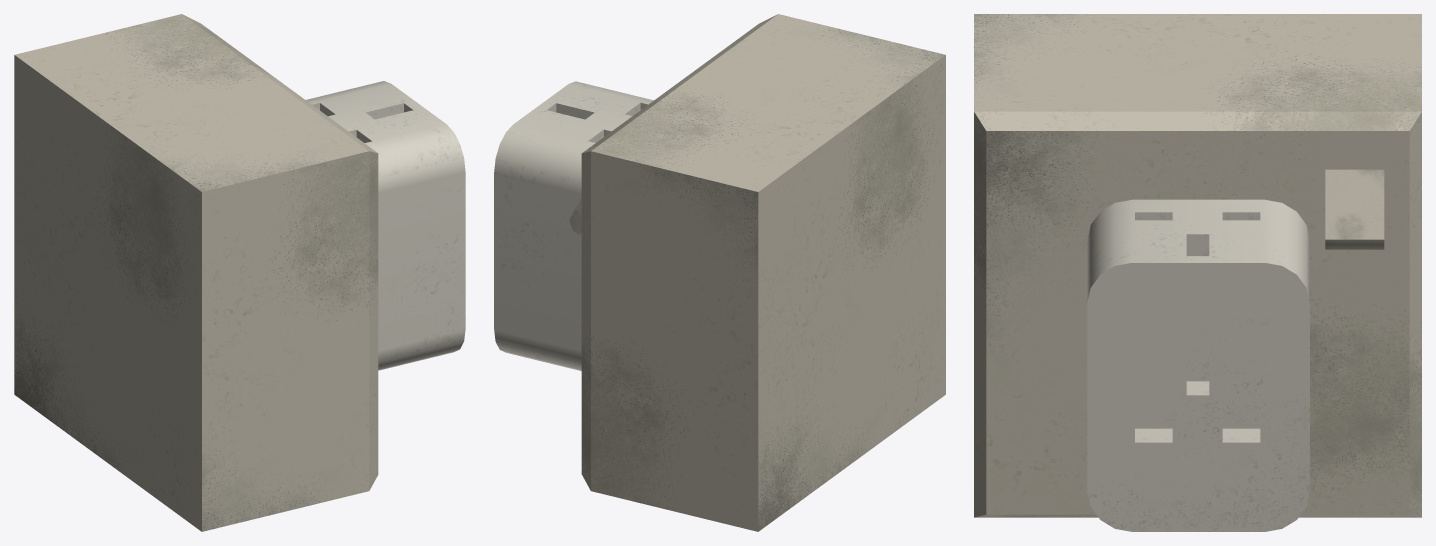
File: switch3.fbx
The picture shows the model from 3 angles, left to right: view 1: azimuth 30°, elevation 25°; view 2: azimuth 150°, elevation 25°; view 3: azimuth 270°, elevation 25°; orthographic projection. The views are drawn at different scales.
Visible parts, largest first — view 1: pCube158, polySurface31; view 2: pCube158, polySurface31; view 3: pCube158, polySurface31.
Part boxes in pixels (left/top/right/bottom): pCube158: left=14, top=14, right=378, bottom=531; polySurface31: left=306, top=81, right=465, bottom=370; pCube158: left=569, top=14, right=945, bottom=531; polySurface31: left=494, top=81, right=653, bottom=370; pCube158: left=974, top=14, right=1421, bottom=517; polySurface31: left=1087, top=199, right=1309, bottom=531.
Bounding box in the file's own units: 6.94 × 7.25 × 7.25.
